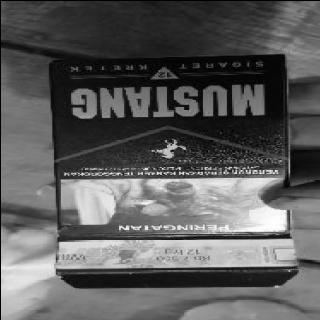objects: (49, 54, 298, 288)
